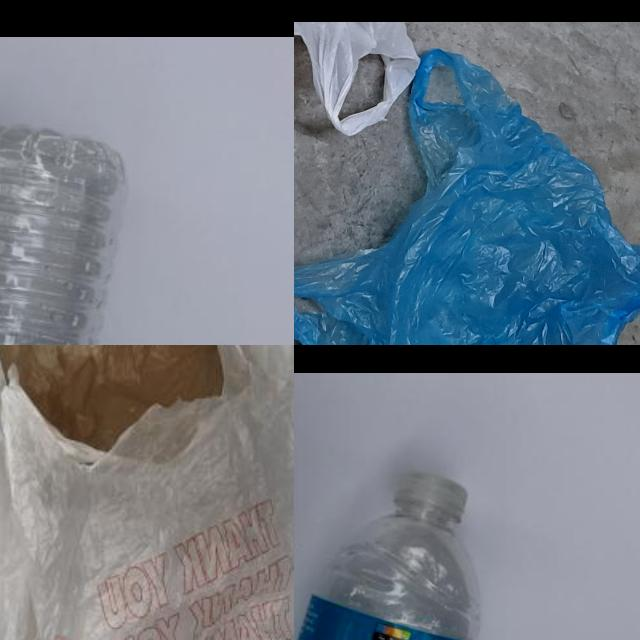garrafa plástica: (0, 121, 128, 345), (294, 510, 484, 640)
sacola plástica: (294, 48, 640, 345), (3, 345, 294, 640), (0, 345, 225, 448), (294, 22, 423, 135)
tampa plástica: (392, 468, 468, 522)
